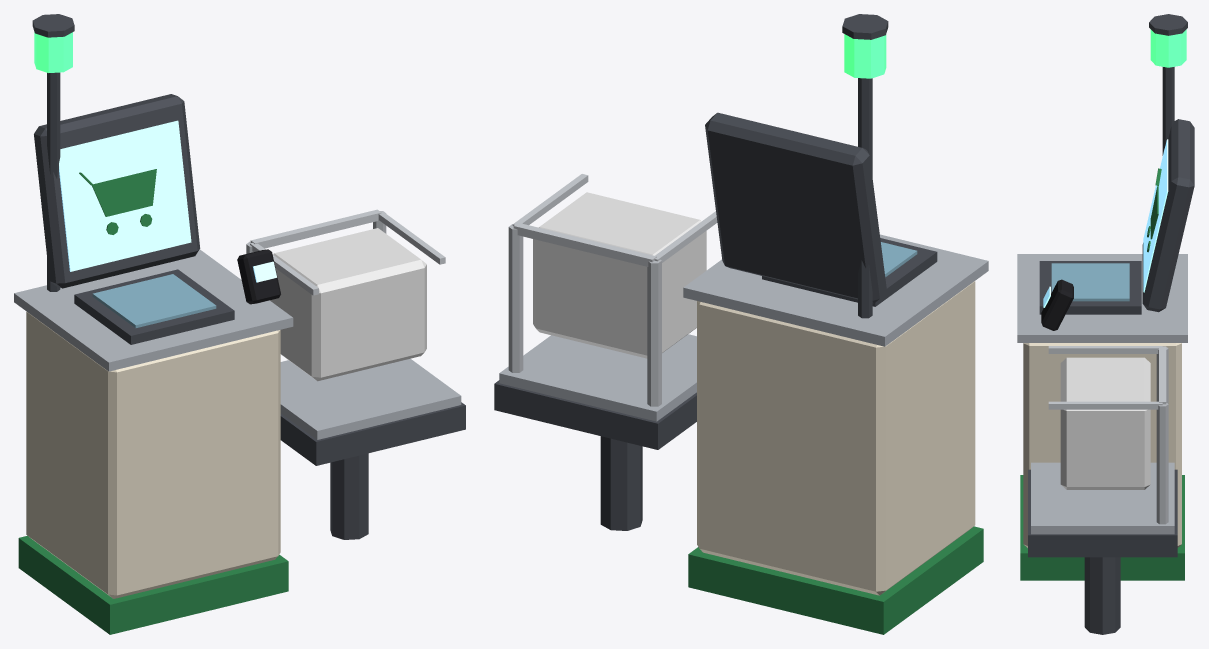
File: Self_Checkout_Kiosk.glb
3 renders of one model, left to right at view 1: azimuth 30°, elevation 25°; view 2: azimuth 150°, elevation 25°; view 3: azimuth 270°, elevation 25°, orthographic. The views are drawn at different scales.
Parts seen in each view (by area): view 1: Self_Checkout_Kiosk; view 2: Self_Checkout_Kiosk; view 3: Self_Checkout_Kiosk.
Boxes of the visible parts, bbox=[...] form: Self_Checkout_Kiosk: bbox=[14, 14, 465, 634]; Self_Checkout_Kiosk: bbox=[494, 14, 988, 634]; Self_Checkout_Kiosk: bbox=[1017, 14, 1194, 634].
Size of the model in its own units: 1.26 by 1.81 by 0.5919.
1 material, 1 textured.
